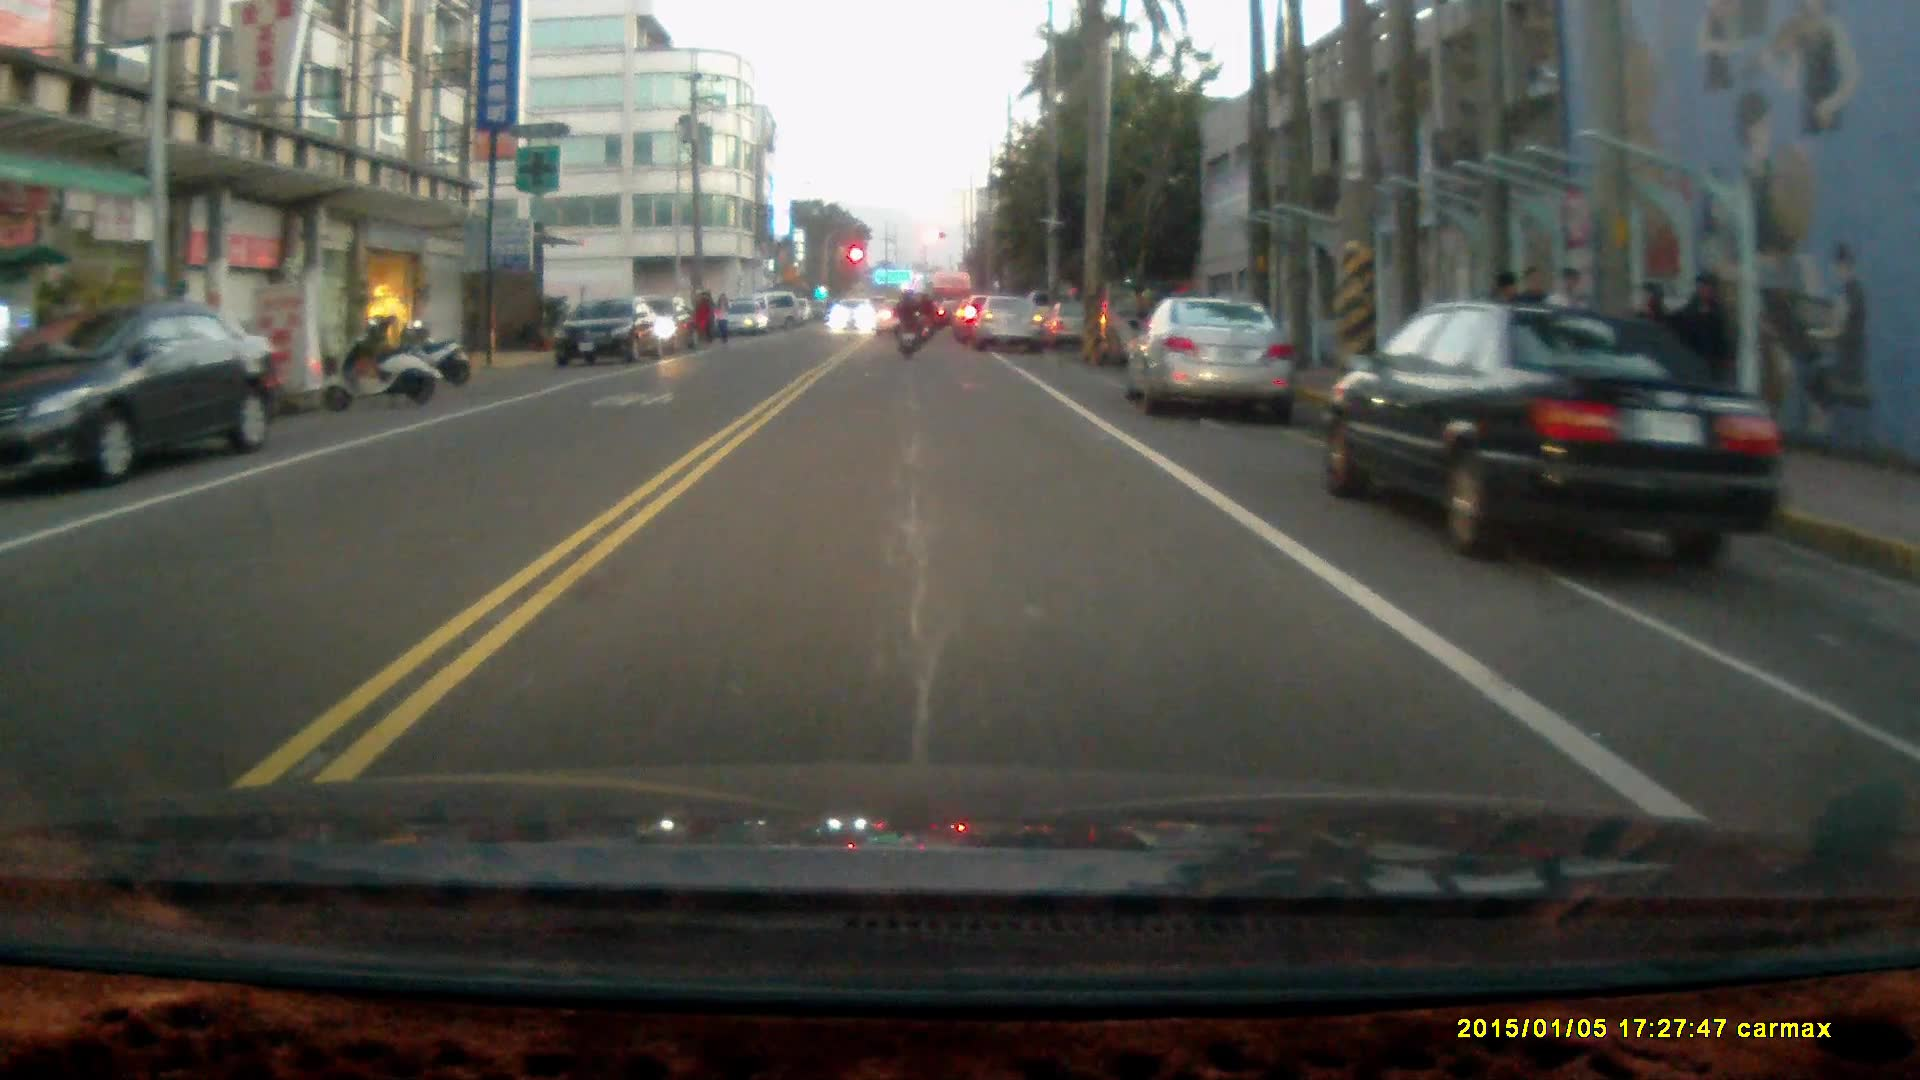pedestrian: (1676, 269, 1736, 422), (694, 289, 716, 349), (711, 290, 731, 350)
rider: (891, 284, 924, 360)
vehicle: (1314, 299, 1794, 579), (1, 304, 284, 483), (1127, 295, 1297, 417), (554, 301, 673, 374), (974, 295, 1046, 351)
